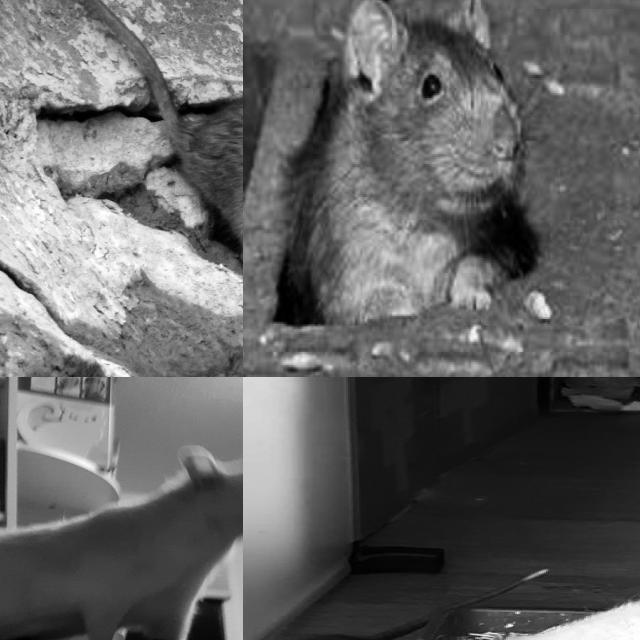rat: (276, 0, 549, 339), (0, 442, 243, 640), (194, 83, 243, 347)
